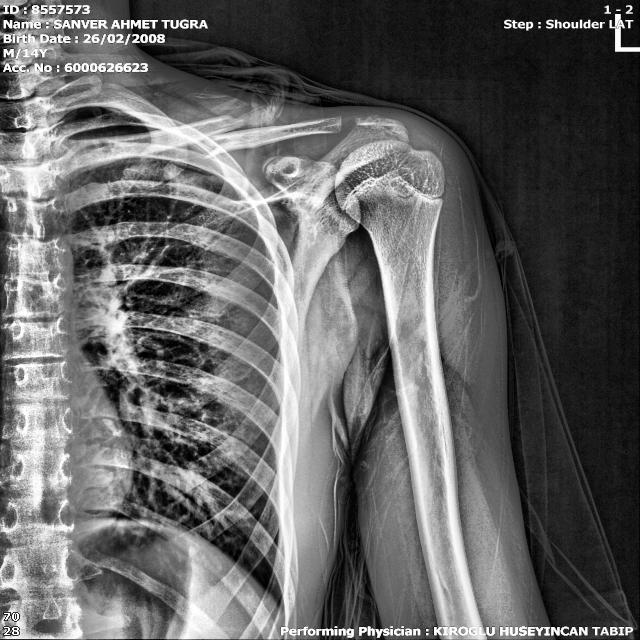Fracture: (186, 111, 254, 168)
